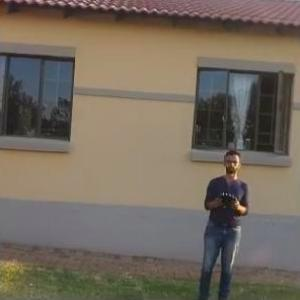follow: (188, 136, 254, 299)
